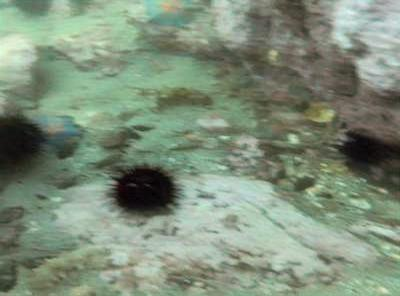urchin: (110, 163, 186, 218), (0, 111, 45, 166), (340, 135, 388, 166)
